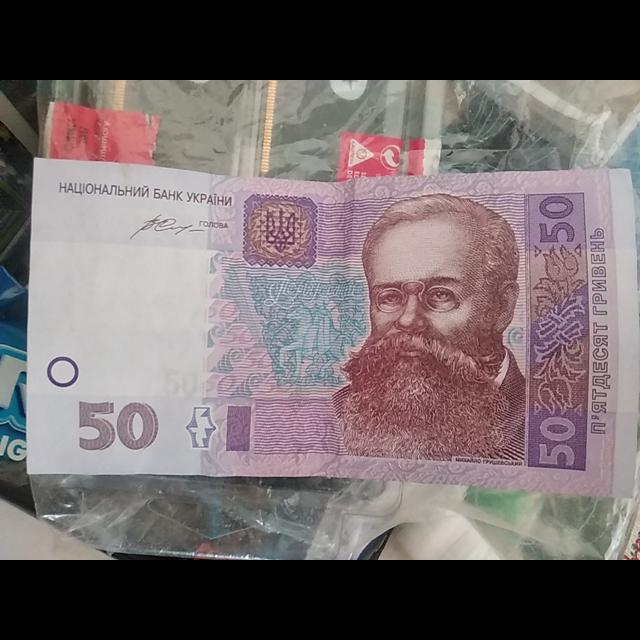50uah: (27, 156, 635, 499)
